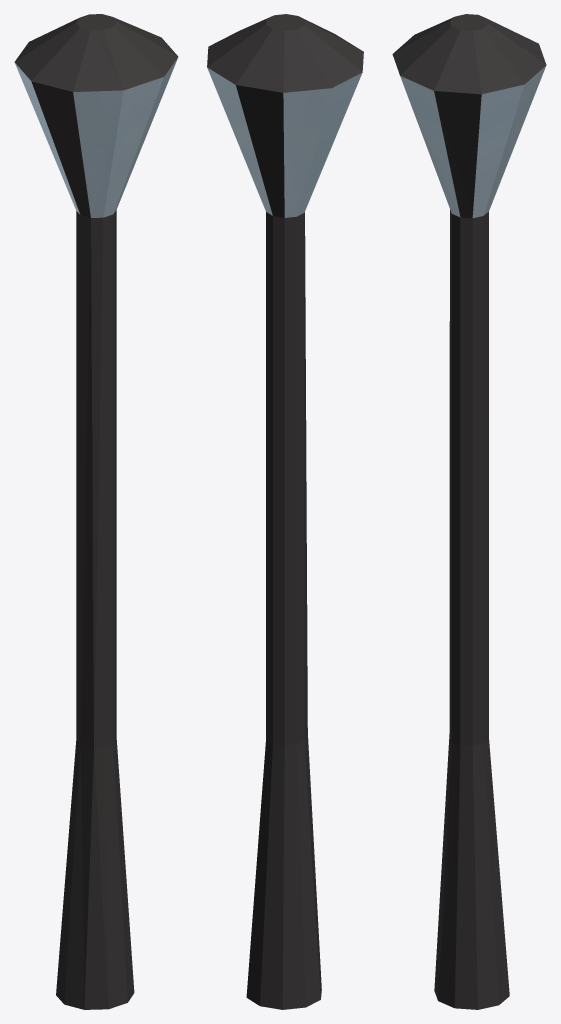
File: lamppost.obj
3 renders of one model, left to right at view 1: azimuth 30°, elevation 25°; view 2: azimuth 150°, elevation 25°; view 3: azimuth 270°, elevation 25°, orthographic.
Visible parts, largest first — view 1: Cylinder; view 2: Cylinder; view 3: Cylinder.
Part boxes in pixels (x1=…): Cylinder: x1=14, y1=14, x2=178, y2=1009; Cylinder: x1=207, y1=14, x2=363, y2=1009; Cylinder: x1=392, y1=14, x2=546, y2=1009.
Bounding box in the file's own units: 3.19 × 20.82 × 3.
Materials: 2 (2 with a texture image).
